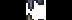anvil: (26, 0, 45, 10), (26, 11, 45, 20)
